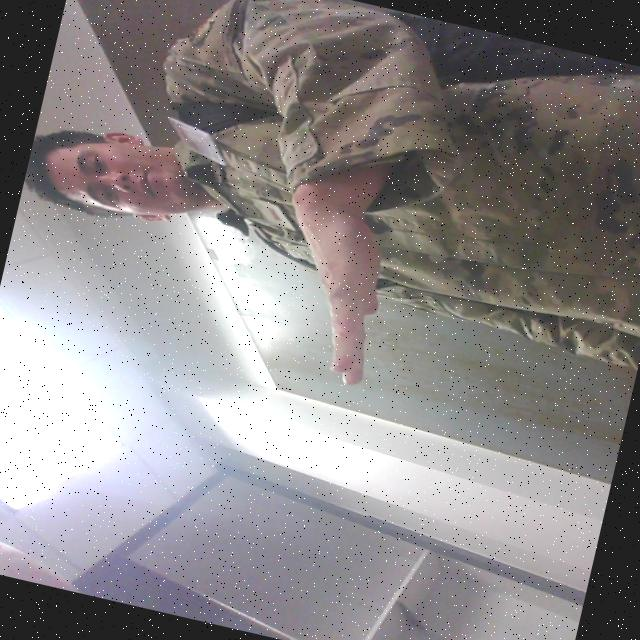paper: (251, 188, 415, 394)
